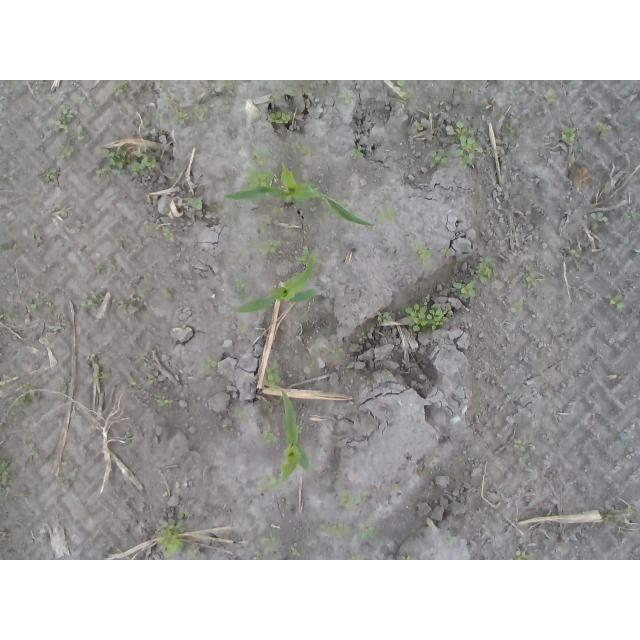Maize: (223, 164, 373, 227), (235, 253, 317, 313), (279, 390, 311, 483)
Weeds: (95, 143, 159, 178), (445, 119, 484, 165), (55, 108, 85, 161), (404, 299, 449, 332), (158, 520, 186, 561), (245, 154, 272, 187), (477, 256, 500, 289), (14, 382, 41, 406), (27, 295, 55, 313), (511, 438, 529, 465), (395, 80, 418, 101), (79, 289, 104, 308), (0, 458, 16, 487), (127, 290, 145, 315), (267, 358, 282, 388), (62, 464, 79, 489), (359, 521, 377, 544), (452, 280, 476, 297), (321, 522, 348, 537), (160, 80, 176, 105), (376, 207, 396, 226), (89, 369, 111, 386), (289, 141, 313, 156), (174, 103, 190, 125), (591, 211, 609, 230), (559, 127, 578, 145), (260, 475, 280, 492), (340, 488, 353, 513), (431, 147, 449, 165), (338, 85, 354, 104), (417, 244, 432, 264), (260, 432, 280, 447), (607, 294, 624, 311), (261, 240, 278, 257), (400, 544, 417, 561), (198, 355, 218, 369), (112, 80, 128, 97), (600, 512, 616, 529), (269, 112, 291, 124), (595, 120, 609, 137), (263, 532, 281, 545), (186, 195, 202, 209), (259, 216, 273, 232), (196, 103, 207, 122), (545, 86, 558, 102), (441, 528, 453, 545), (189, 542, 200, 560), (351, 146, 365, 160), (45, 169, 58, 184), (377, 311, 392, 324), (296, 252, 308, 268), (163, 226, 176, 240), (235, 276, 248, 290), (526, 271, 536, 289), (353, 491, 369, 502), (230, 406, 246, 417), (158, 397, 175, 407), (514, 552, 535, 560), (330, 345, 346, 355), (160, 287, 173, 299), (273, 205, 287, 216), (290, 543, 301, 557), (570, 248, 583, 259), (237, 322, 247, 336), (219, 80, 233, 90), (356, 331, 369, 341), (511, 304, 525, 313), (153, 111, 164, 122), (351, 552, 366, 560), (624, 504, 636, 512), (414, 121, 424, 130), (270, 96, 280, 105), (296, 424, 304, 434), (632, 248, 640, 258), (180, 512, 189, 520)
